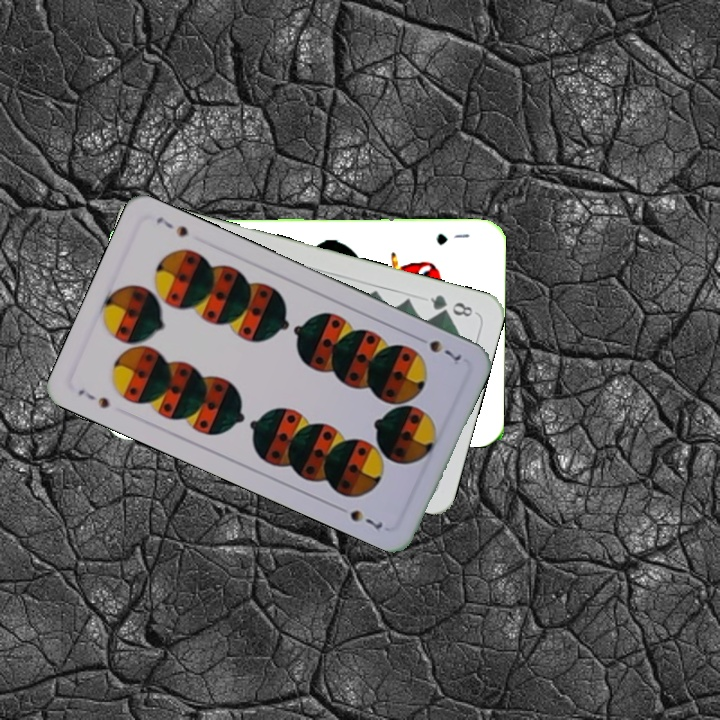G8: (426, 290, 476, 320)
GU: (433, 229, 472, 247)
S7: (411, 332, 464, 364), (74, 385, 112, 411)
